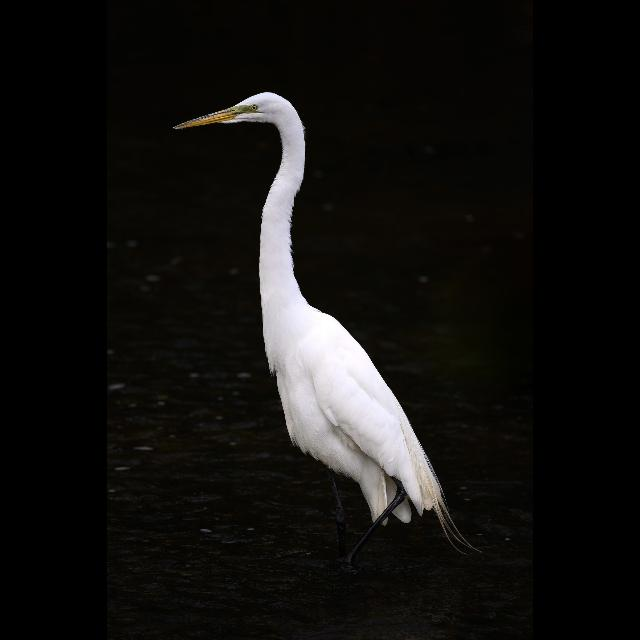egret: (172, 87, 450, 536)
